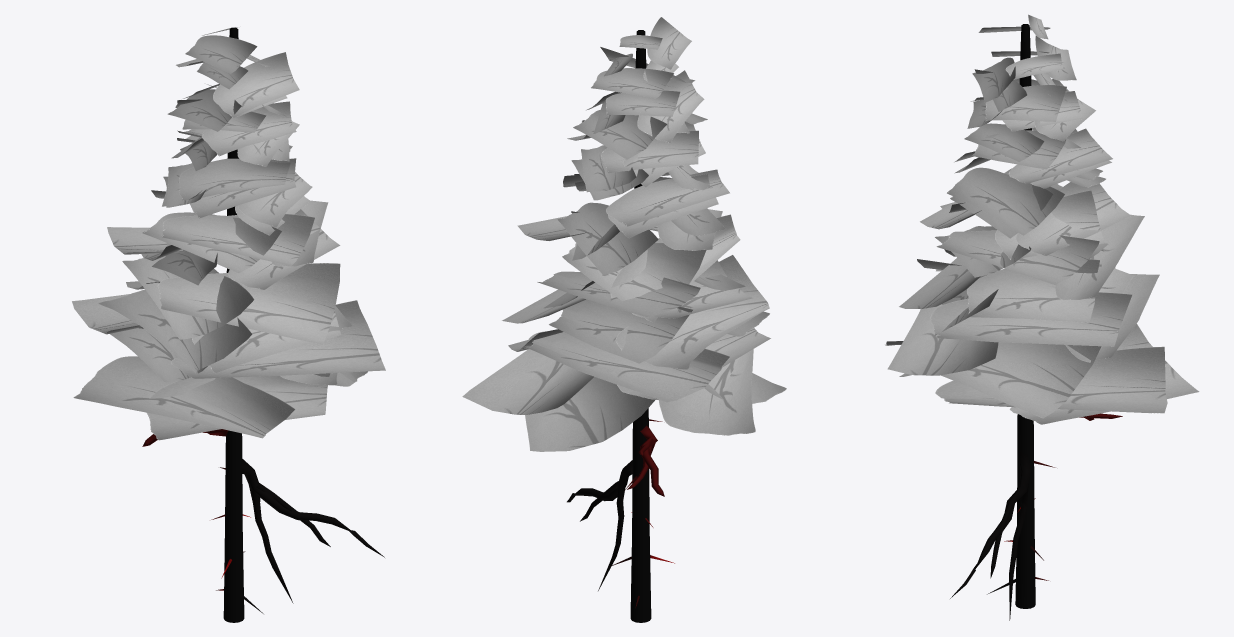
Rendered from M_Pine_5_1.fbx.
3 views of the same model, side by side, from view 1: azimuth 30°, elevation 25°; view 2: azimuth 150°, elevation 25°; view 3: azimuth 270°, elevation 25° (orthographic).
Visible parts, largest first — view 1: Mobile_Pine_1; view 2: Mobile_Pine_1; view 3: Mobile_Pine_1.
Boxes of the visible parts, x1,y1,x2,y2 form: Mobile_Pine_1: (72,27,385,622); Mobile_Pine_1: (462,17,786,622); Mobile_Pine_1: (885,14,1199,620).
Size of the model in its own units: 2075 by 3590 by 2048.
